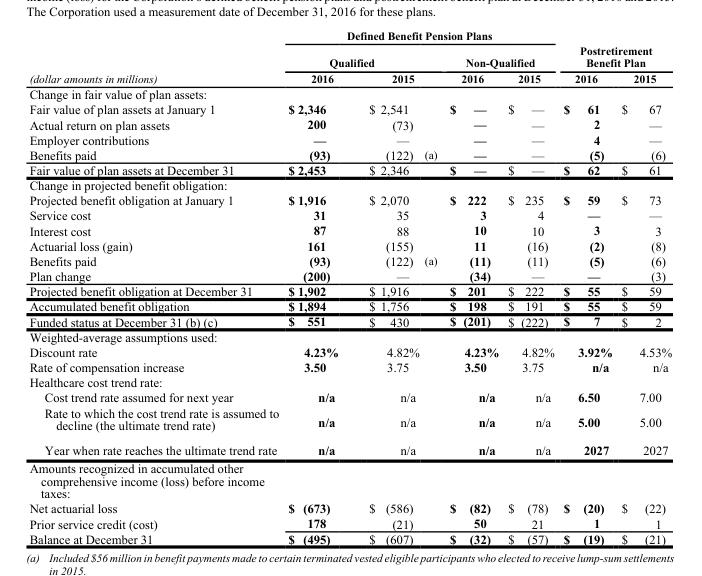table: (28, 29, 671, 545)
table column: (28, 29, 282, 545), (353, 29, 442, 545), (282, 29, 353, 545), (442, 29, 502, 545), (558, 29, 616, 545), (502, 29, 558, 545), (616, 29, 671, 545)
table column header: (28, 29, 671, 85)
table projected row header: (28, 458, 671, 500), (28, 85, 671, 101), (28, 177, 671, 192), (28, 328, 671, 343), (28, 374, 671, 389)
table row: (28, 458, 671, 500), (28, 404, 671, 437), (28, 48, 671, 70), (28, 437, 671, 458), (28, 29, 671, 48), (28, 85, 671, 101), (28, 146, 671, 162), (28, 237, 671, 253), (28, 343, 671, 359), (28, 70, 671, 85), (28, 101, 671, 116), (28, 116, 671, 131), (28, 131, 671, 146), (28, 162, 671, 177), (28, 177, 671, 192), (28, 192, 671, 207), (28, 207, 671, 222), (28, 222, 671, 237), (28, 253, 671, 268), (28, 268, 671, 283), (28, 283, 671, 298), (28, 298, 671, 313), (28, 313, 671, 328), (28, 328, 671, 343), (28, 359, 671, 374), (28, 374, 671, 389), (28, 389, 671, 404), (28, 500, 671, 515), (28, 515, 671, 530), (28, 530, 671, 545)
table spanning cell: (28, 29, 282, 85), (282, 29, 558, 48), (558, 29, 671, 70), (282, 48, 442, 70), (442, 48, 558, 70)
